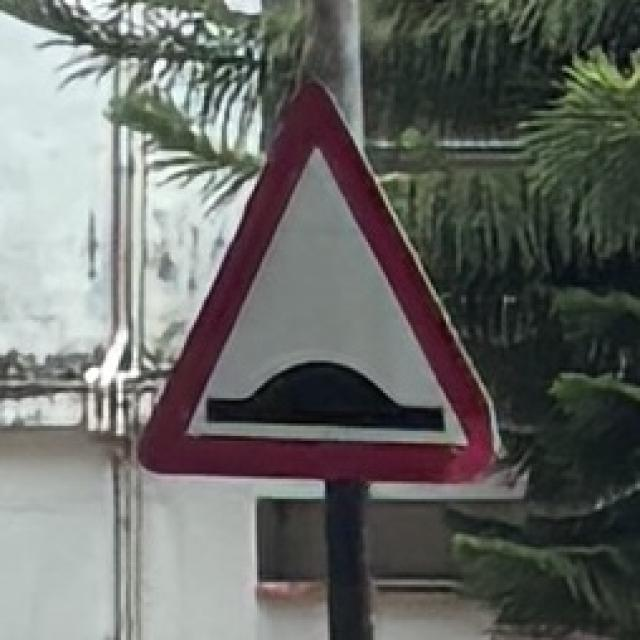HUMP_OR_ROUGH_ROAD: (134, 75, 508, 487)
